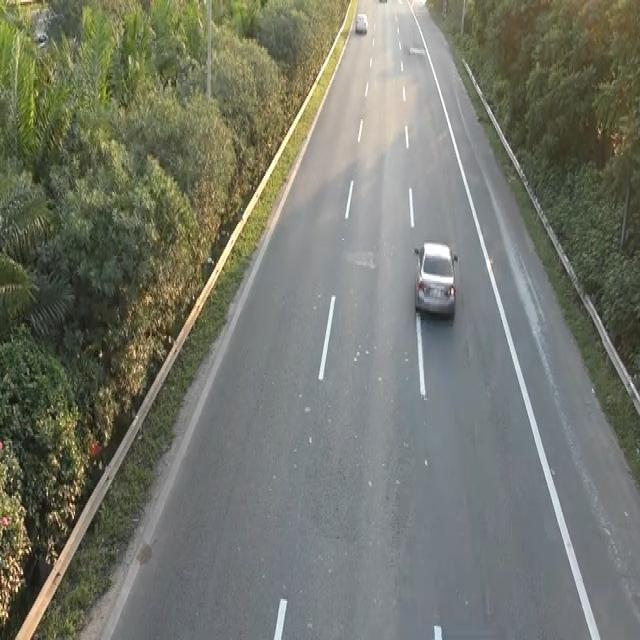bus: (411, 236, 459, 320)
